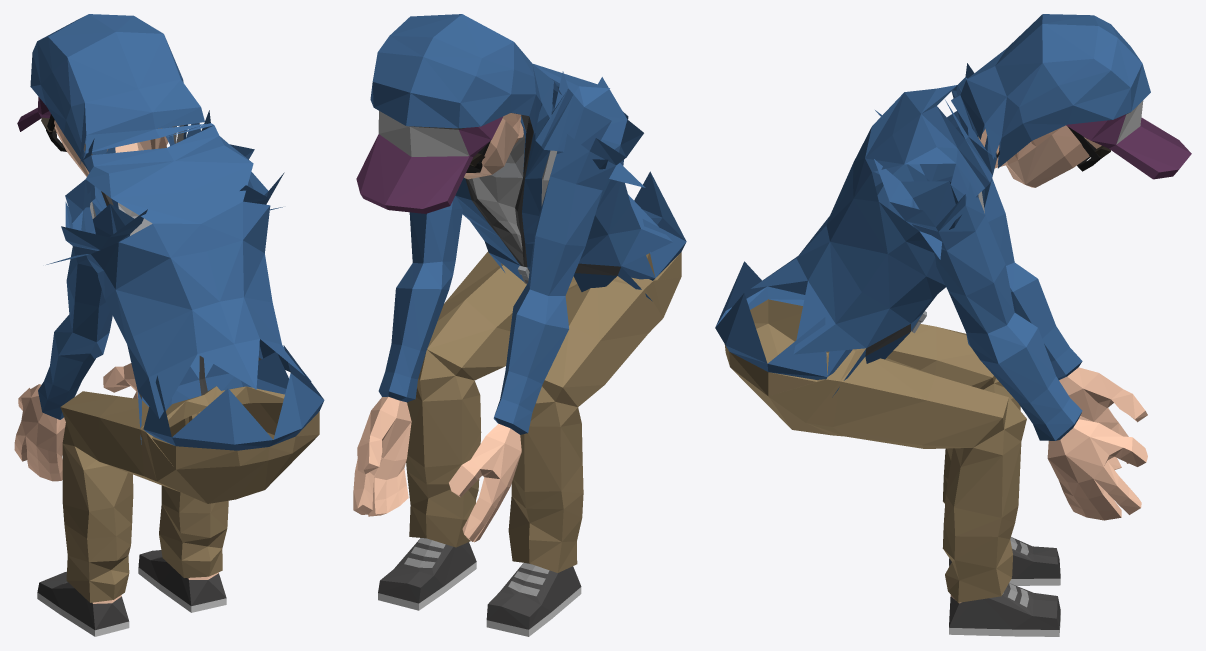
The model's file is Medic.obj.
3 renders of one model, left to right at view 1: azimuth 30°, elevation 25°; view 2: azimuth 150°, elevation 25°; view 3: azimuth 270°, elevation 25°, orthographic. The views are drawn at different scales.
Visible parts, largest first — view 1: Medic; view 2: Medic; view 3: Medic.
Boxes of the visible parts, left/top/right/bottom form: Medic: left=14, top=14, right=324, bottom=636; Medic: left=353, top=14, right=686, bottom=636; Medic: left=715, top=14, right=1191, bottom=636.
Size of the model in its own units: 0.5821 by 1.27 by 0.9512.
Materials: 1 (1 with a texture image).
